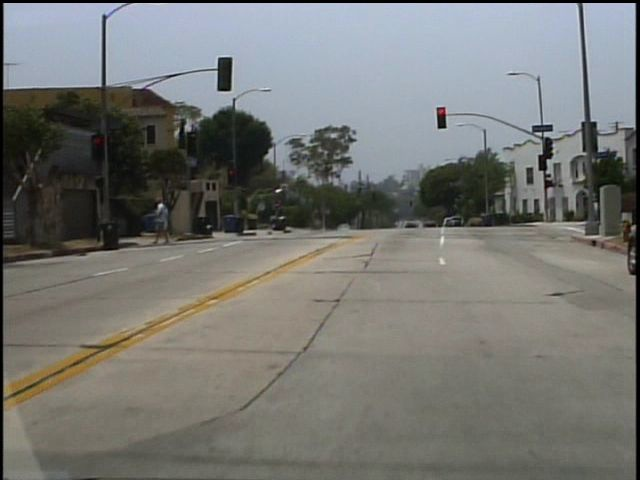person: (158, 195, 178, 244), (164, 201, 176, 244)
